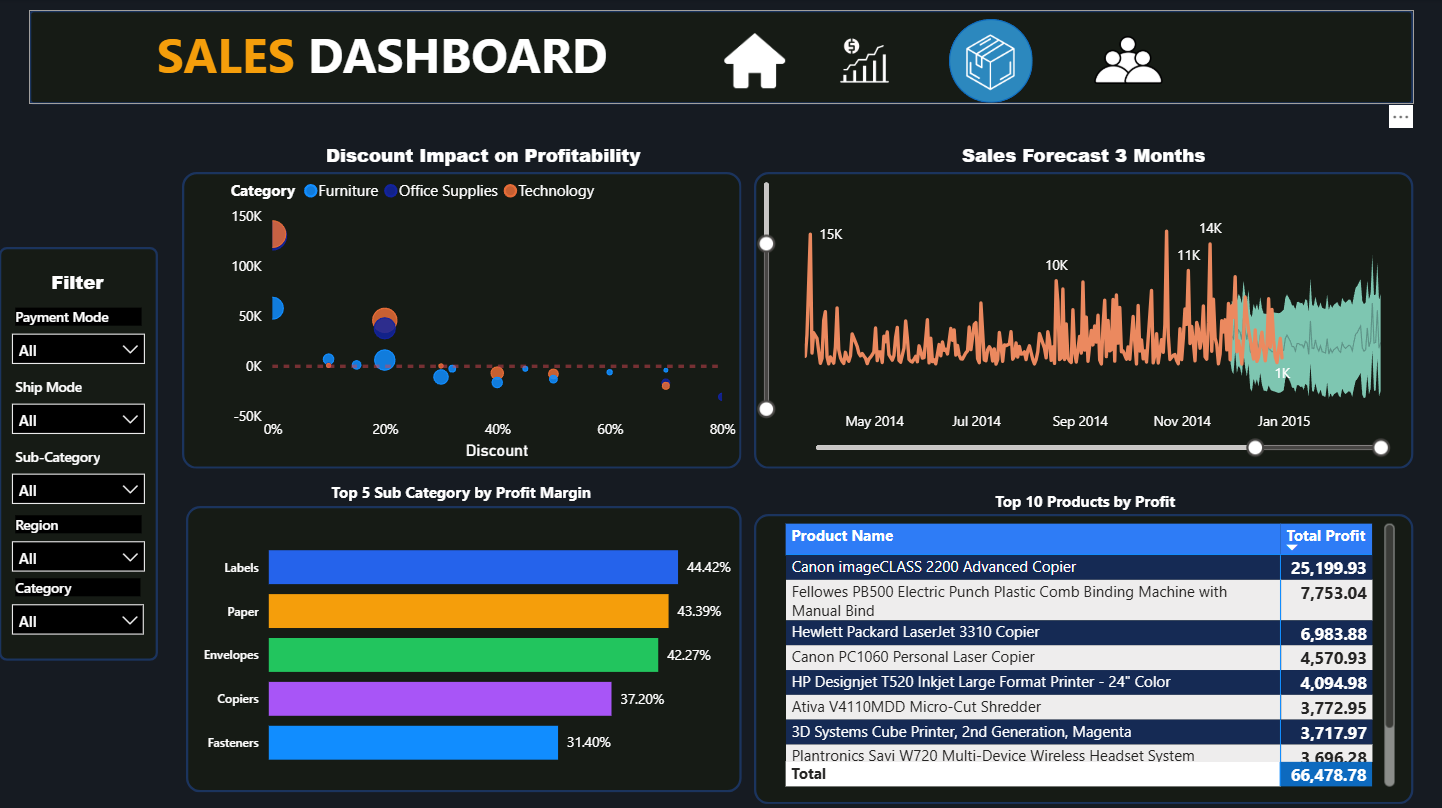

This screenshot's page, from the dashboard's own definition file:
{"tool":"powerbi","page":{"name":"Product Profitability","canvas":[1280,720],"ordinal":2},"visuals":[{"type":"shape","box":[26.8,9.3,1227.6,83.9],"z":0},{"type":"shape","box":[669.7,153.7,584.7,263.2],"z":0},{"type":"shape","box":[161.9,153.7,496.2,263.2],"z":1000},{"type":"shape","box":[669.7,456.6,584.7,257.4],"z":2000},{"type":"scatterChart","title":"Discount Impact on Profitability","fields":{"Series":["Superstore.Category"],"Size":["Sum(Superstore.Sales)"],"X":["Superstore.Discount"],"Y":["Sum(Superstore.Profit)"]},"box":[200.3,127,457.7,286.5],"z":3000},{"type":"shape","box":[165.4,449.6,492.7,253.9],"z":4000},{"type":"lineChart","title":"Sales Forecast 3 Months","fields":{"Category":["Date Table.Date"],"Y":["Sum(Superstore.Sales)"]},"box":[669.7,127,584.7,281.9],"z":5000},{"type":"clusteredBarChart","title":"Top 5 Sub Category by Profit Margin","fields":{"Category":["Superstore.Sub-Category"],"Y":["_Measures.Profit Margin"]},"box":[178.2,460.1,472.9,232.9],"z":5000},{"type":"textbox","box":[135.1,14,411.9,72.1],"z":7000},{"type":"shape","box":[0,220.1,140.9,366.9],"z":8000},{"type":"slicer","title":"Sales by Ship Mode","fields":{"Values":["Superstore.Payment Mode"]},"box":[4.7,269,131.6,61.7],"z":9000},{"type":"slicer","title":"Sales by Ship Mode","fields":{"Values":["Superstore.Ship Mode"]},"box":[4.7,330.8,131.6,61.7],"z":10000},{"type":"slicer","title":"Sales by Ship Mode","fields":{"Values":["Superstore.Sub-Category"]},"box":[4.7,392.5,131.6,62.9],"z":11000},{"type":"textbox","box":[29.1,233.9,80.3,36.1],"z":12000},{"type":"slicer","title":"Sales by Ship Mode","fields":{"Values":["Superstore.Region"]},"box":[4.7,455.4,131.6,55.9],"z":13000},{"type":"slicer","title":"Sales by Ship Mode","fields":{"Values":["Superstore.Category"]},"box":[4.7,511.3,131.5,57],"z":14000},{"type":"pivotTable","title":"Top 10 Products by Profit","fields":{"Rows":["Superstore.Product Name"],"Values":["_Measures.Total Profit"]},"box":[692.8,460.1,550,243.4],"z":15000},{"type":"textbox","box":[798.2,432.1,330.2,47.8],"z":16000},{"type":"textbox","box":[244.6,423.9,330.2,47.8],"z":17000},{"type":"image","box":[962.9,23.2,76.7,61.6],"z":18000},{"type":"image","box":[633,30.2,74.3,48.8],"z":19000},{"type":"image","box":[720.1,15.1,95.2,79],"z":20000},{"type":"shape","box":[842.1,17.4,74.3,74.3],"z":21000},{"type":"image","box":[821.2,15.1,116.2,82.5],"z":22000}]}

Visuals, with their boxes in screenshot pixels (x1, y1, x2, y2), scaled from the page's 1280x720 canvas onto the 1442x808 screenshot:
shape: locate(30, 10, 1413, 105)
shape: locate(754, 172, 1413, 468)
shape: locate(182, 172, 741, 468)
shape: locate(754, 512, 1413, 801)
"Discount Impact on Profitability" scatterChart: locate(226, 143, 741, 464)
shape: locate(186, 505, 741, 789)
"Sales Forecast 3 Months" lineChart: locate(754, 143, 1413, 459)
"Top 5 Sub Category by Profit Margin" clusteredBarChart: locate(201, 516, 734, 778)
textbox: locate(152, 16, 616, 97)
shape: locate(0, 247, 159, 659)
"Sales by Ship Mode" slicer: locate(5, 302, 154, 371)
"Sales by Ship Mode" slicer: locate(5, 371, 154, 440)
"Sales by Ship Mode" slicer: locate(5, 440, 154, 511)
textbox: locate(33, 262, 123, 303)
"Sales by Ship Mode" slicer: locate(5, 511, 154, 574)
"Sales by Ship Mode" slicer: locate(5, 574, 153, 638)
"Top 10 Products by Profit" pivotTable: locate(780, 516, 1400, 789)
textbox: locate(899, 485, 1271, 539)
textbox: locate(276, 476, 648, 529)
image: locate(1085, 26, 1171, 95)
image: locate(713, 34, 797, 89)
image: locate(811, 17, 918, 106)
shape: locate(949, 20, 1032, 103)
image: locate(925, 17, 1056, 110)
